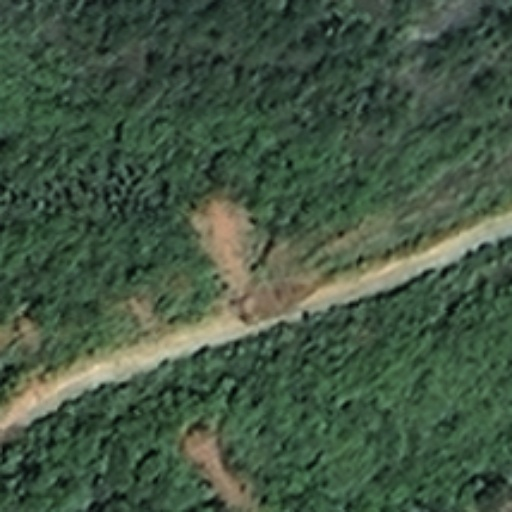landslide: (189, 195, 259, 296), (184, 423, 246, 509)
